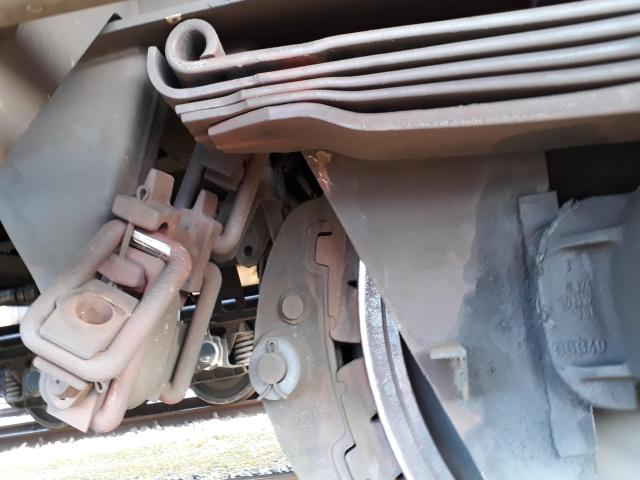blattfederww: (129, 15, 640, 133)
